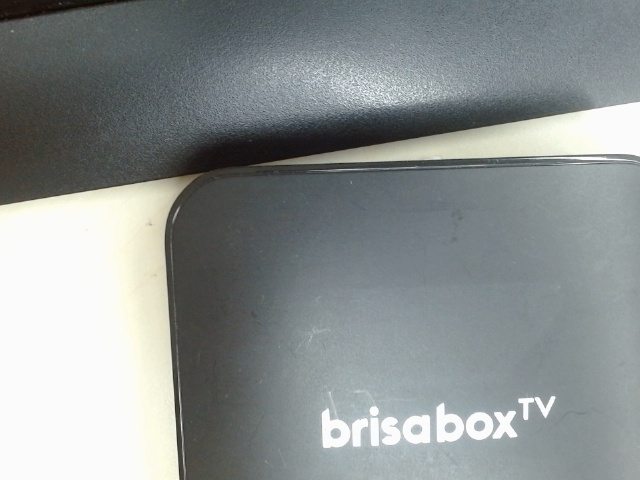AH_brisabox: (314, 392, 563, 453)
